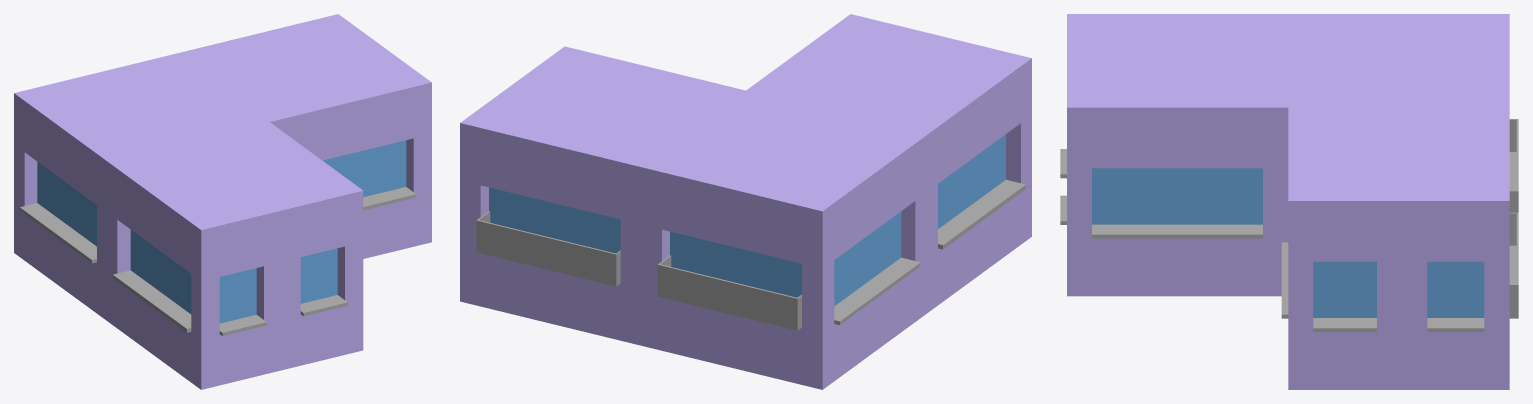
Rendered from building_L_5_f.glb.
3 views of the same model, side by side, from view 1: azimuth 30°, elevation 25°; view 2: azimuth 150°, elevation 25°; view 3: azimuth 270°, elevation 25° (orthographic). The views are drawn at different scales.
Visible parts, largest first — view 1: Cube.001; view 2: Cube.001; view 3: Cube.001.
Part boxes in pixels (left/top/right/bottom): Cube.001: left=14, top=14, right=431, bottom=389; Cube.001: left=460, top=14, right=1031, bottom=389; Cube.001: left=1060, top=14, right=1518, bottom=389.
Size of the model in its own units: 3.5 by 1.6 by 3.52.
